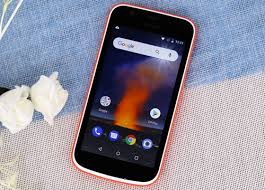nokia: (69, 1, 201, 184)
